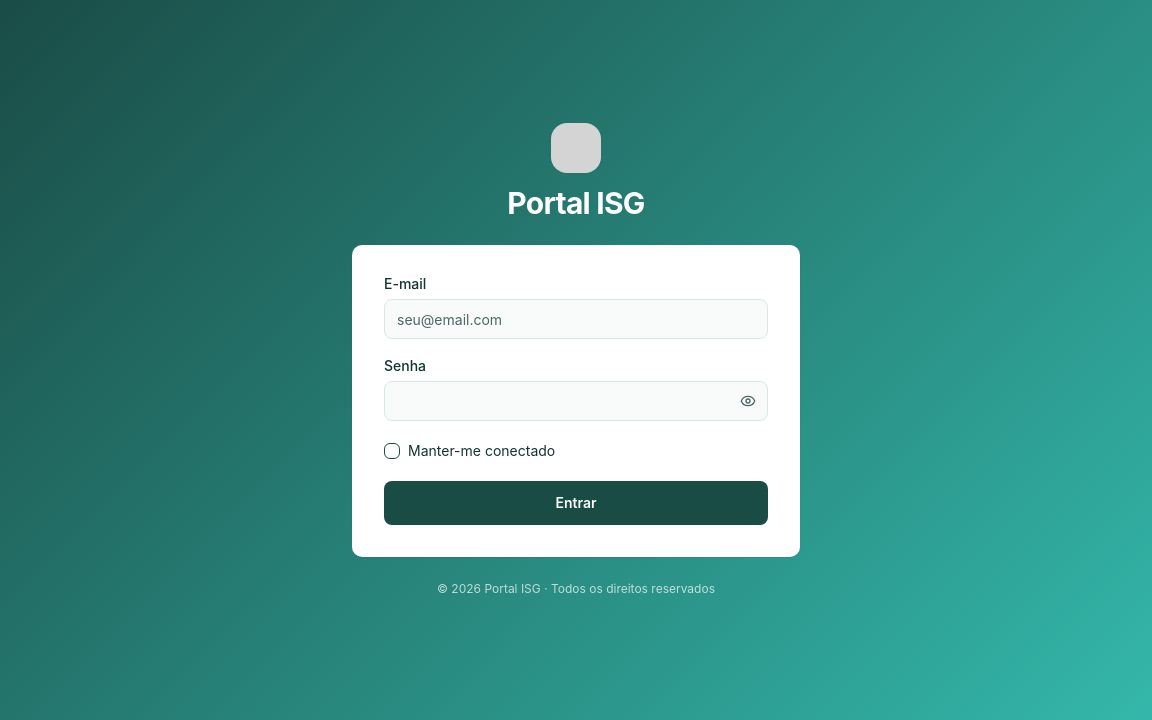
Test: Login › deve exibir "Entrando..." durante o carregamento
The width and height of the screenshot is (1152, 720).
Type "admin@clinica.com" into the field labelled "E-mail" at (576, 319), box [384,299,768,339]
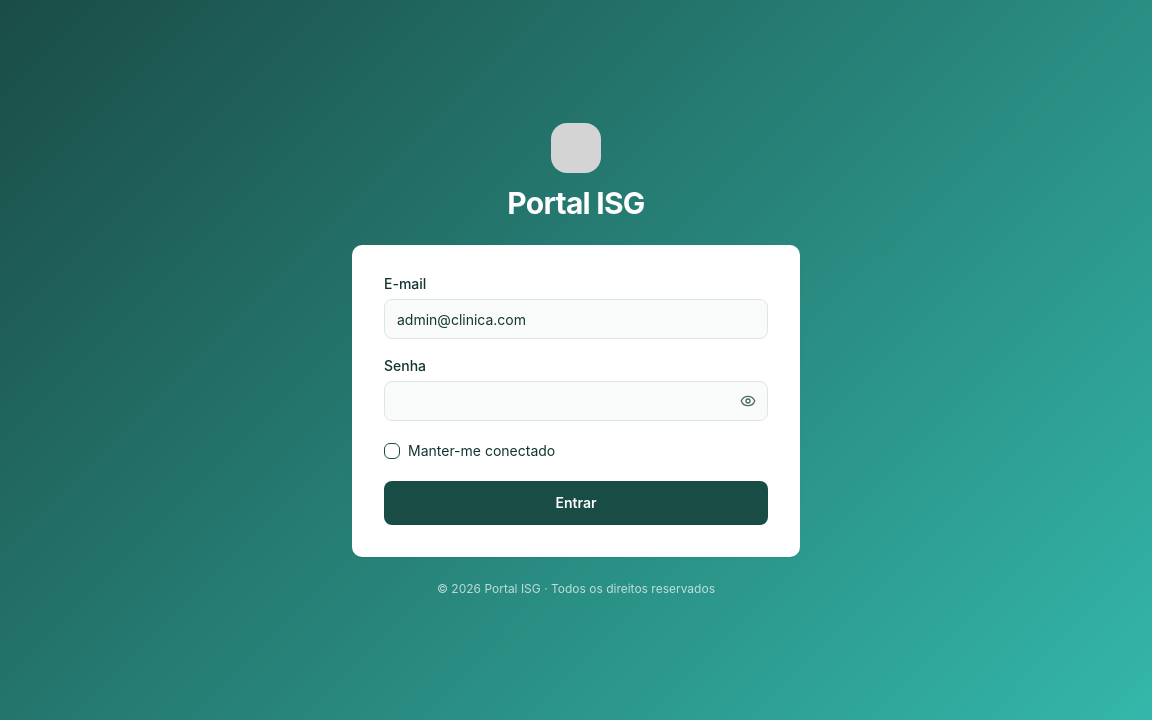
Type "senha123" into the password field labelled "Senha" at (576, 401), box [384,381,768,421]
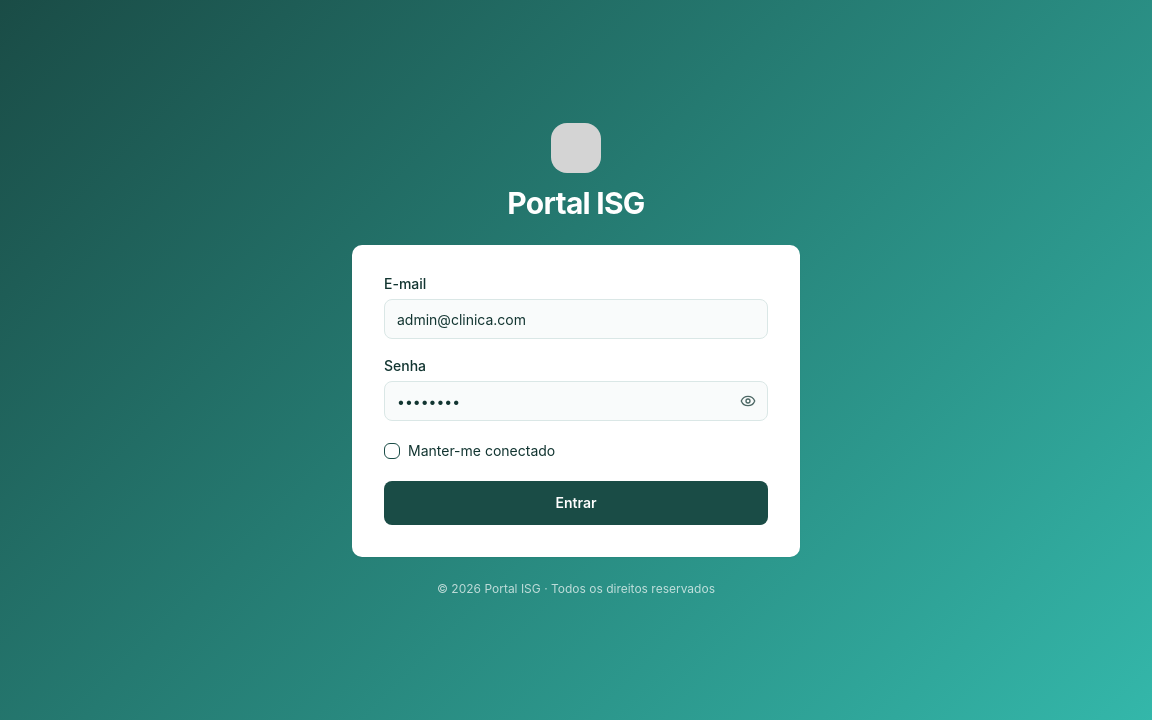
Click the button "Entrar" at (576, 503), box [384,481,768,525]
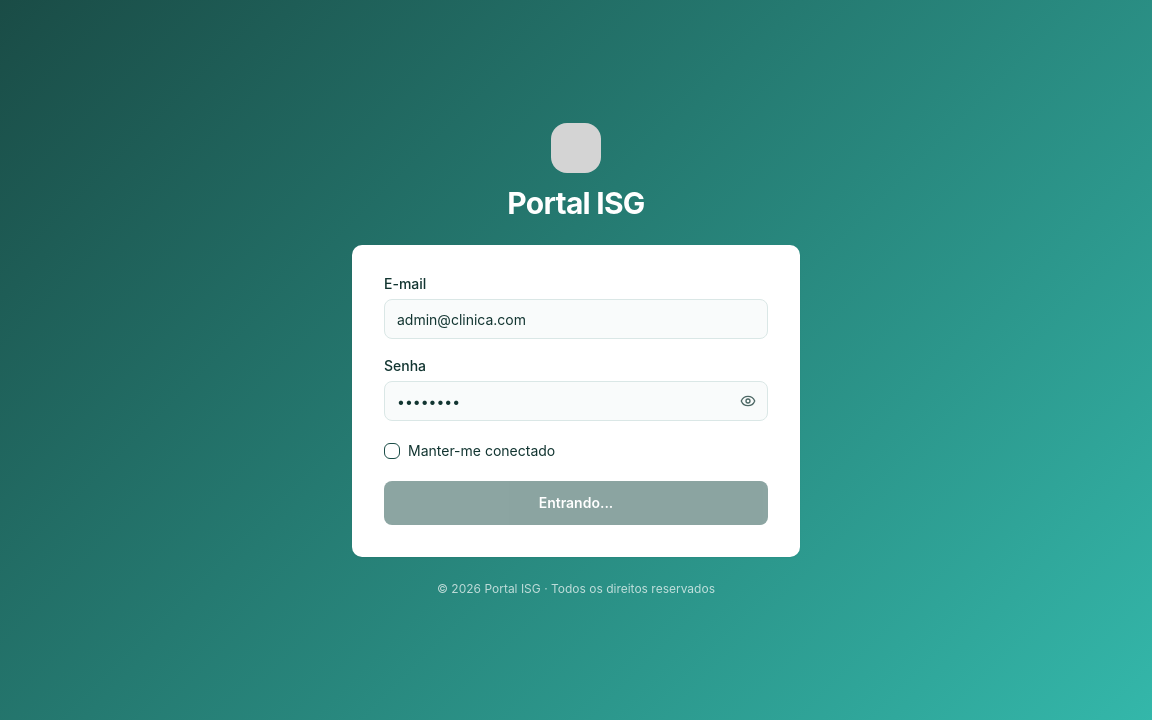
expect the button "Entrando..." is disabled: met, box [384,481,768,525]
